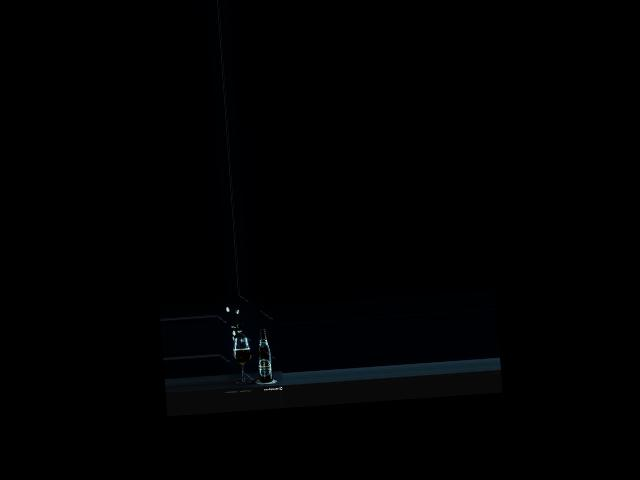beer: (256, 328, 272, 382)
